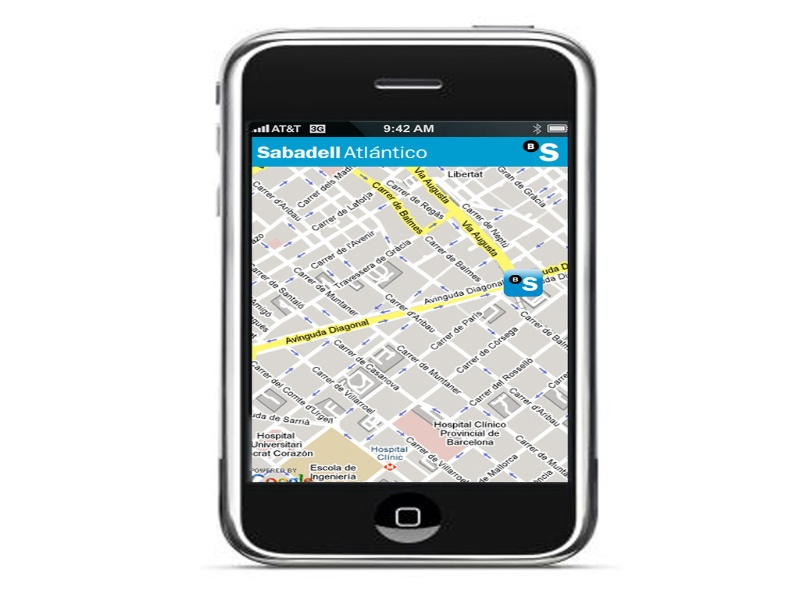cellphone: (204, 22, 608, 580)
